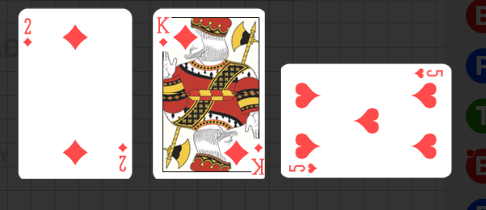2D: (22, 17, 34, 49)
5H: (287, 162, 319, 175), (412, 67, 444, 80)
